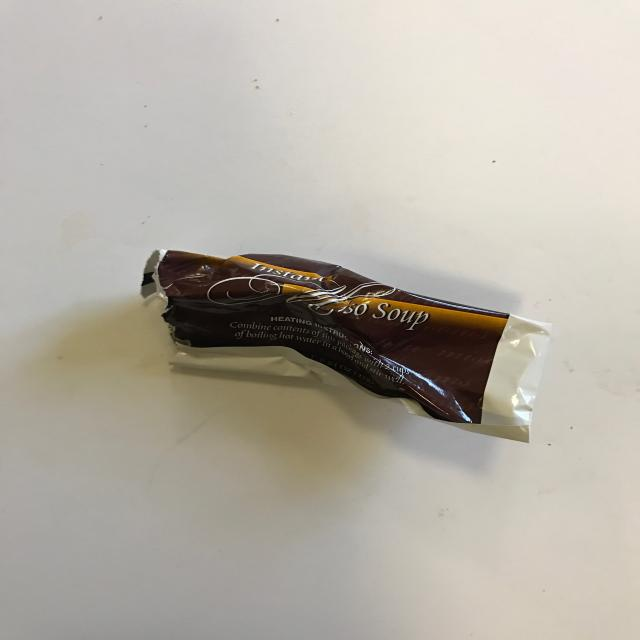trash: (141, 248, 552, 443)
